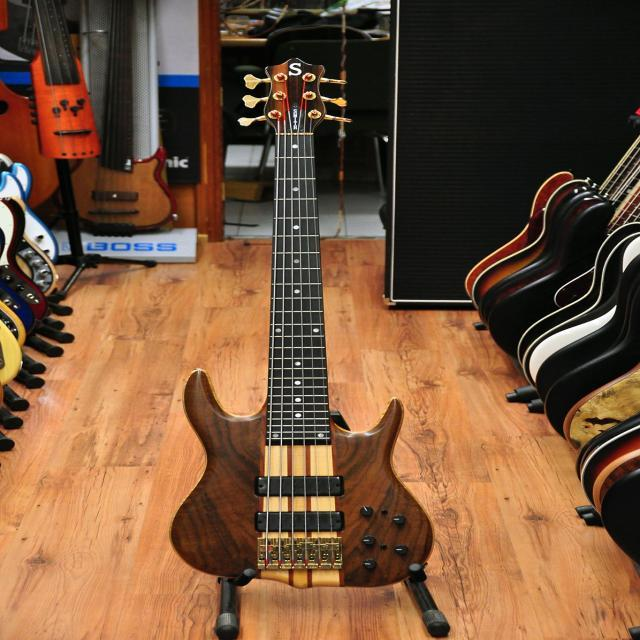bass: (171, 59, 431, 587)
